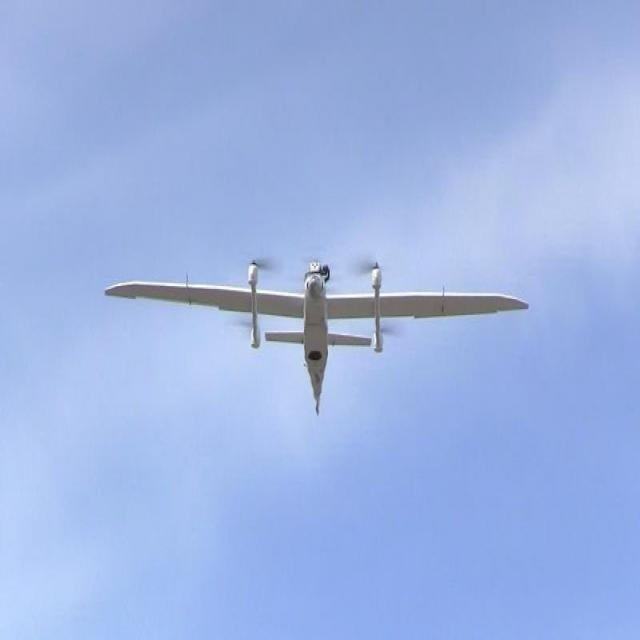iha: (97, 246, 543, 425)
